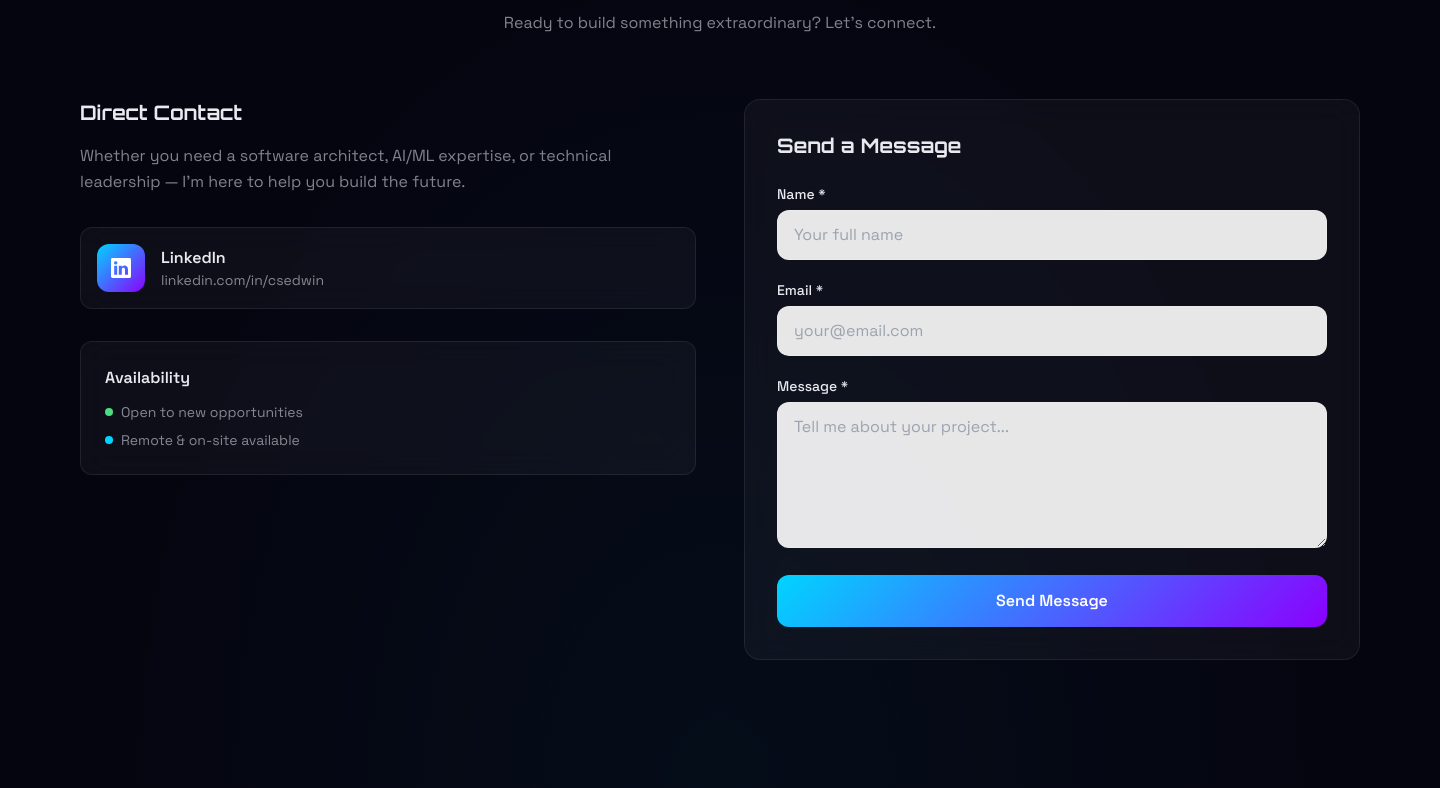
it: Contact › shows validation errors when submitting empty form
(page scrolled)
Click the button "Send Message".
click(1052, 601)  # box [777,575,1327,627]
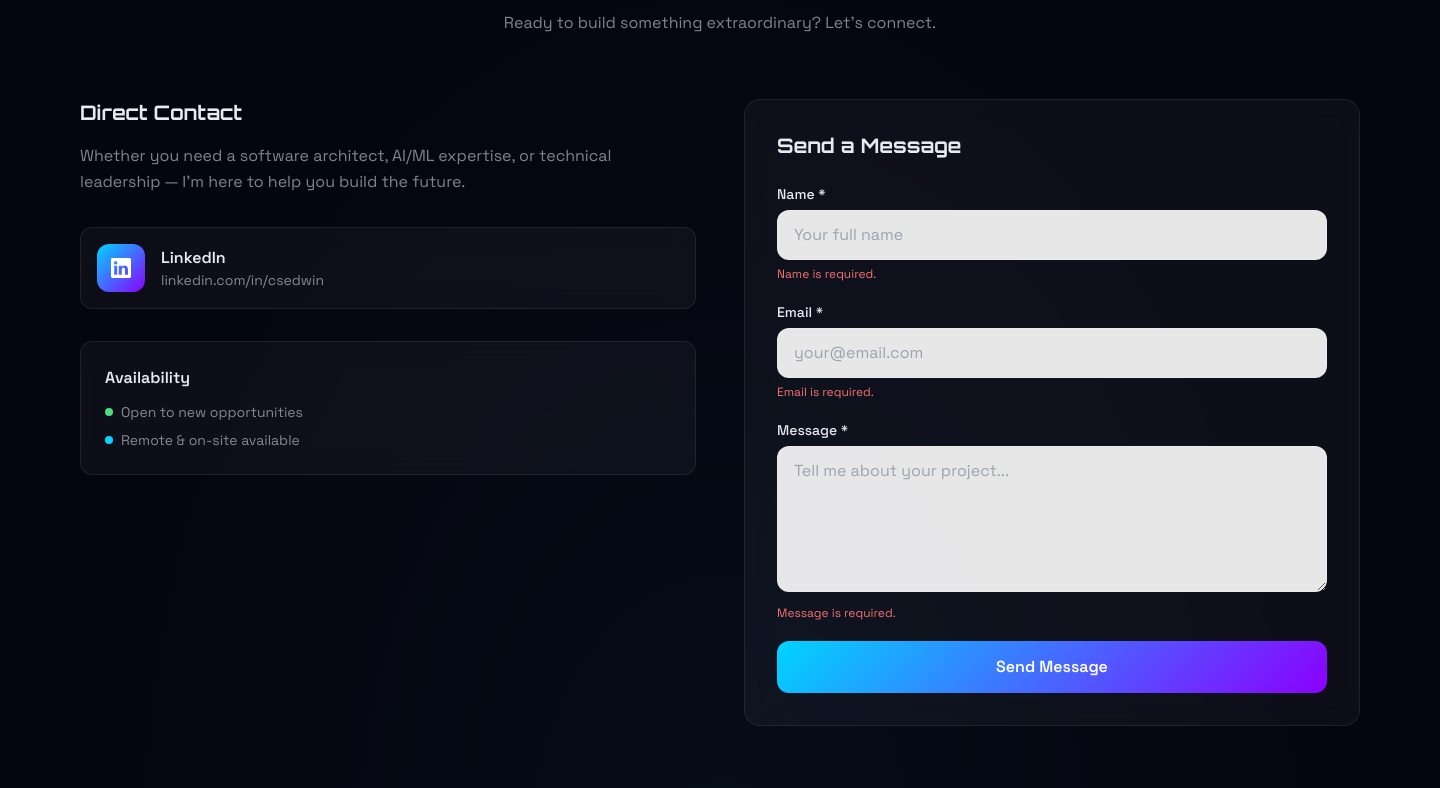
Check: the text "Name is required." is shown, box [777,266,876,282]
Check: the text "Email is required." is shown, box [777,384,874,400]
Check: the text "Message is required." is shown, box [777,605,896,621]
